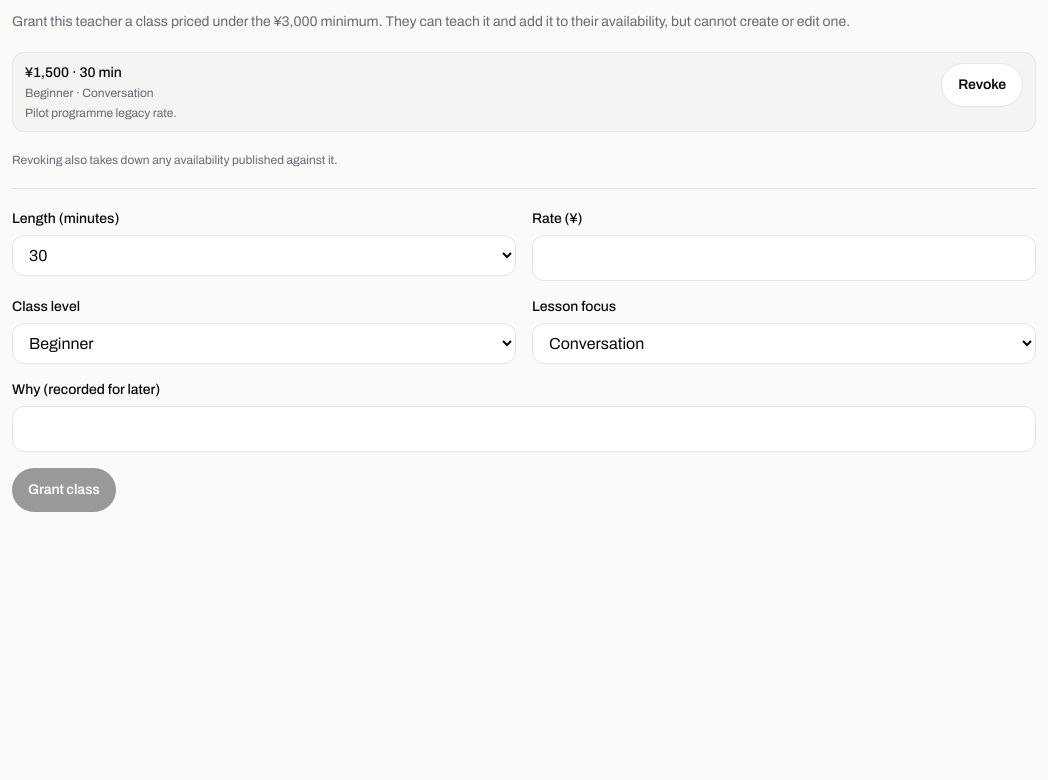
Test: AdminTeacherRateGrants › refuses to grant a rate that needs no grant
The width and height of the screenshot is (1048, 780).
Check: the text "¥1,500 · 30 min" is shown, box [25, 65, 122, 80]
Type "5000" into the field labelled "Rate (¥)" at (784, 258), box [532, 235, 1036, 281]
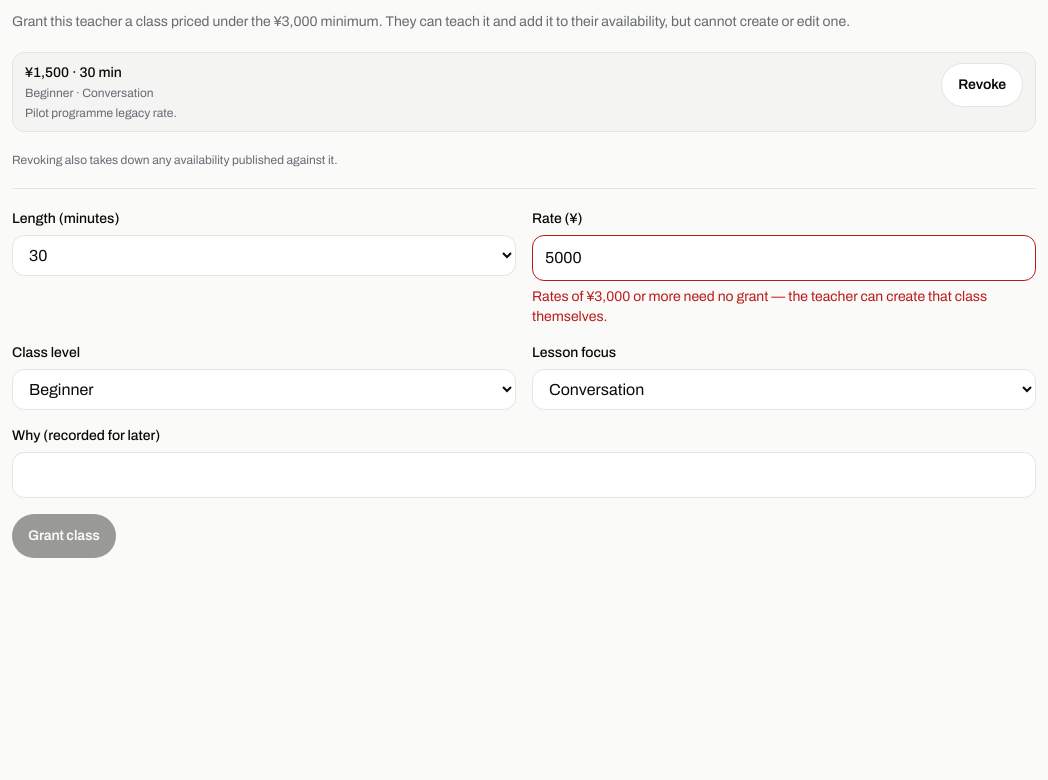
Check: the button "Grant class" is disabled, box [12, 514, 116, 558]
Check: the text "need no grant" is shown, box [532, 289, 987, 324]
